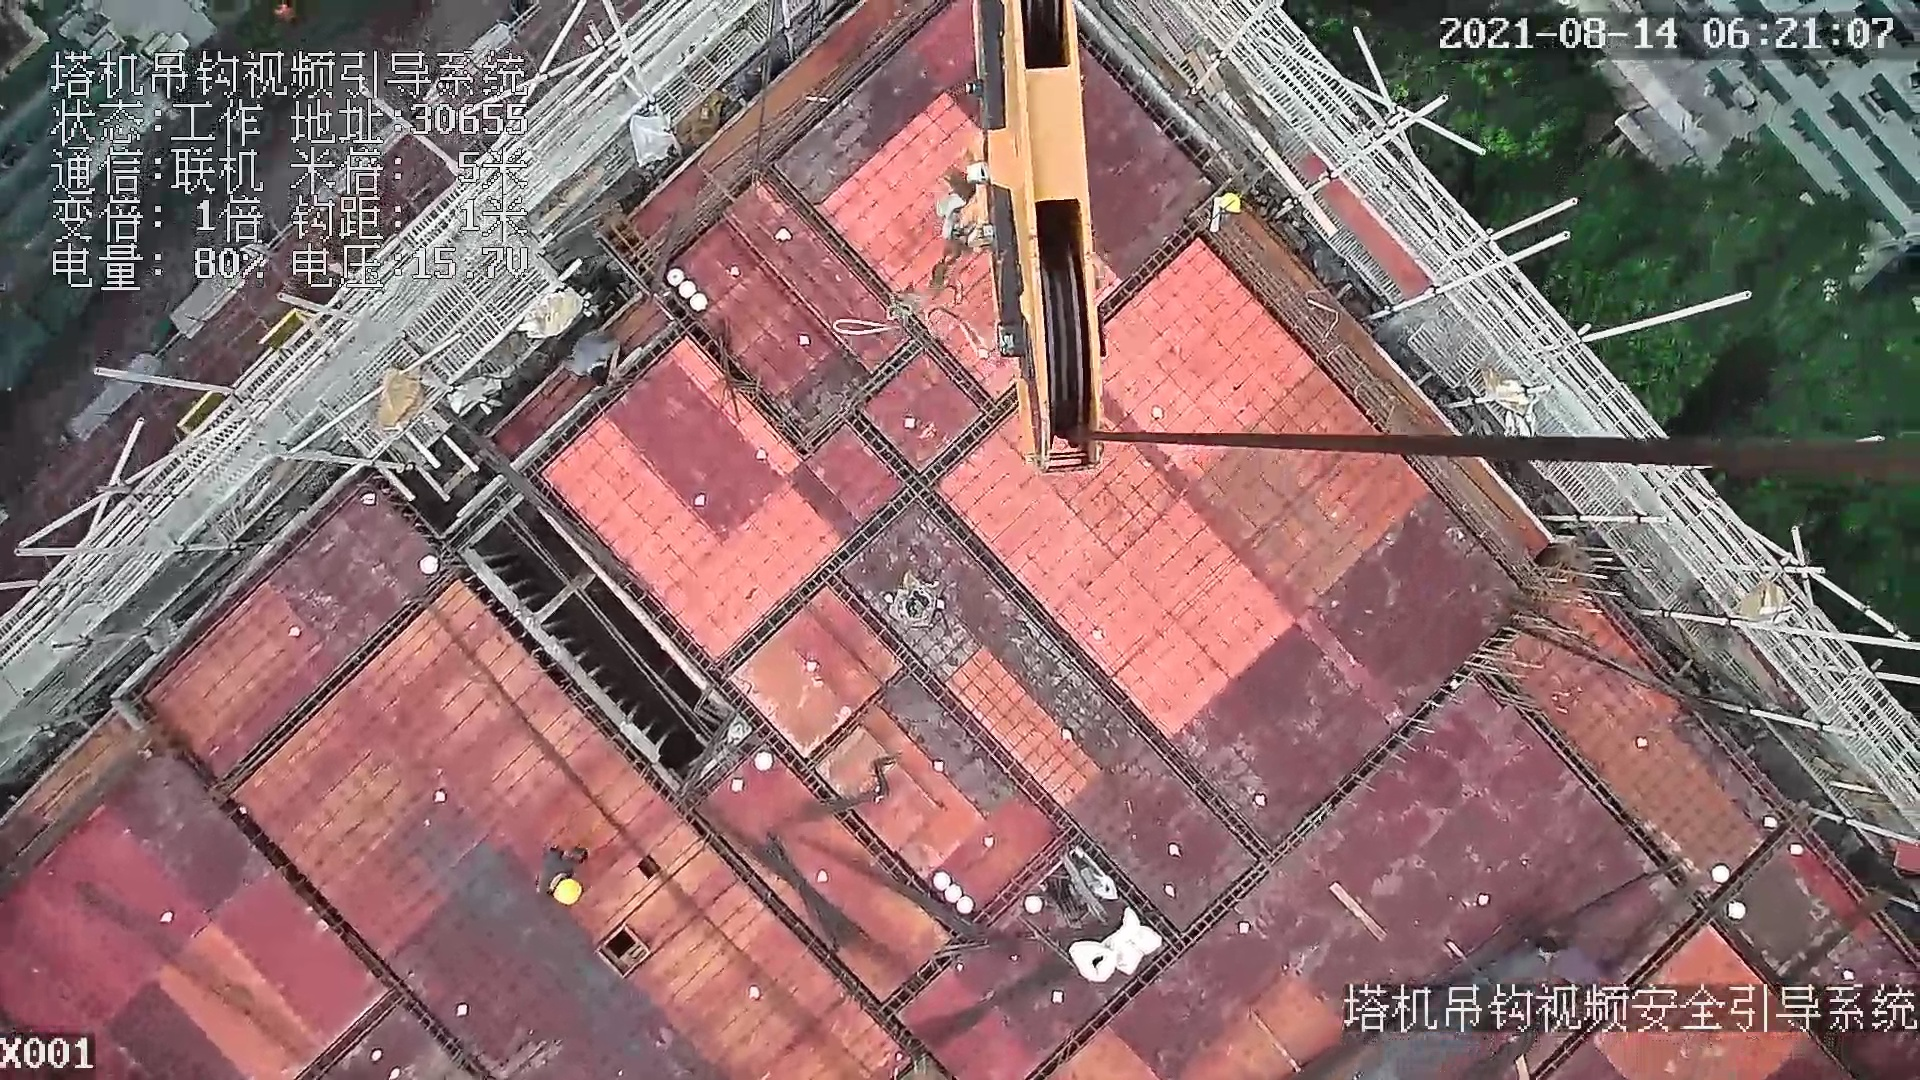helmet: (548, 875, 586, 905)
hook: (931, 1, 1115, 476)
person: (526, 835, 599, 913)
